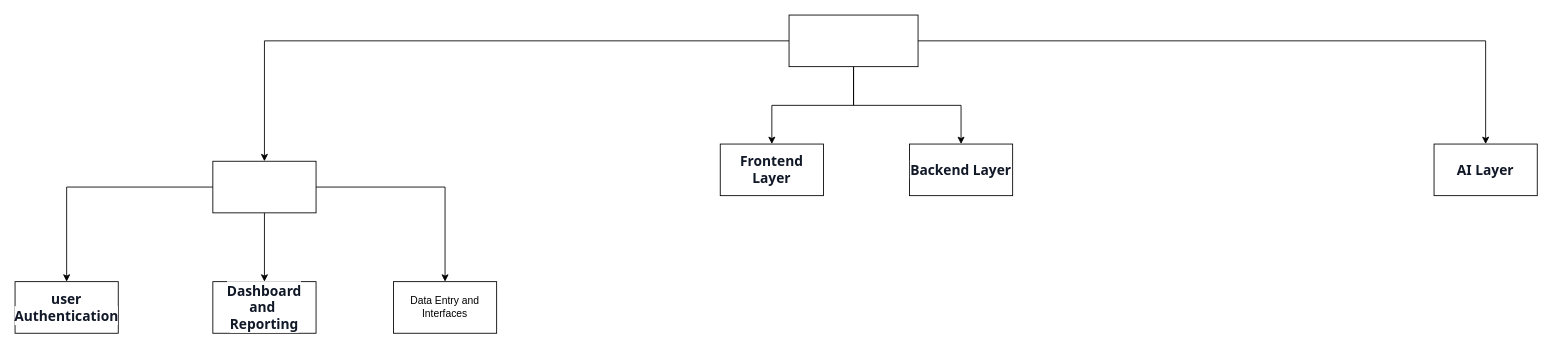
Some shapes in this 1552 by 348 pixel diagram are drawn without their labels. Each missing label, with the centre of its shape:
"AI-Enanbled EMR System" belongs at point 853,40.
"User Layer" belongs at point 264,186.
